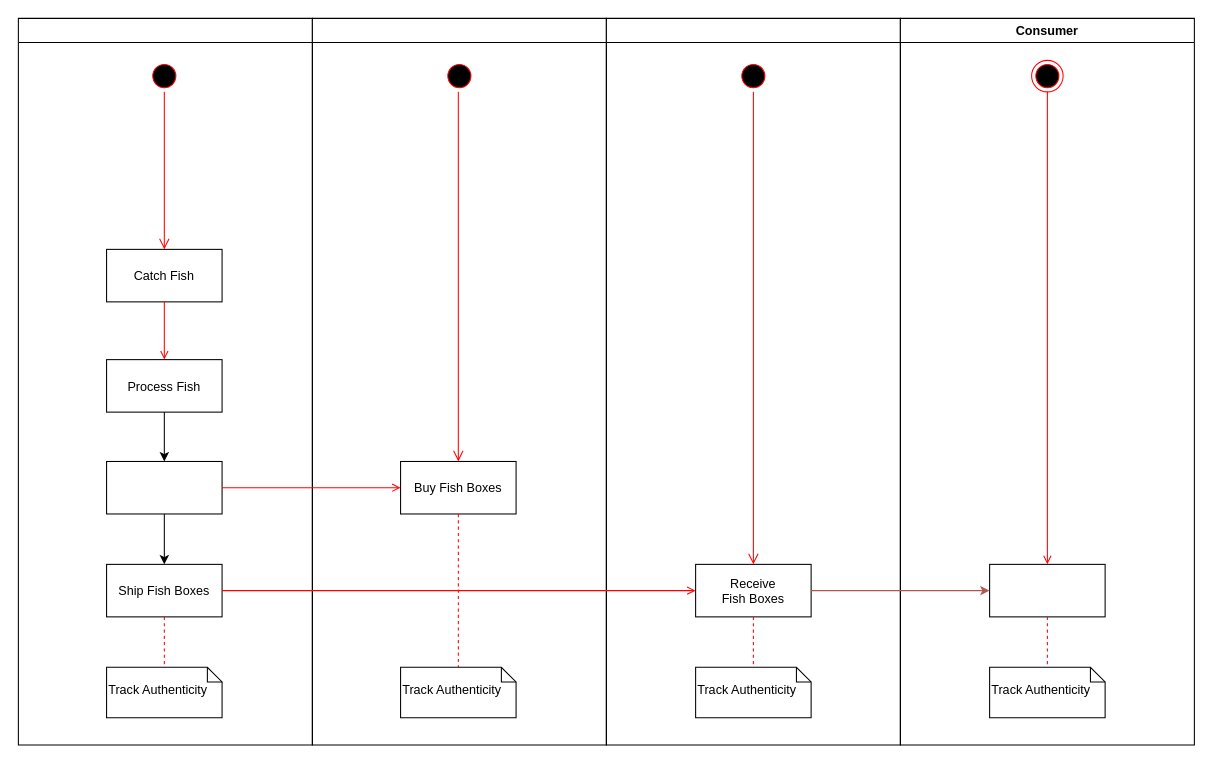
The diagram is 1213 pixels wide and 763 high, and some of its shapes have lost their labels. The box of each missing label's shape, as (x1, y1, x2, y2) in pixels:
Add Fish Boxes: (106, 460, 222, 514)
Buy Fish: (989, 563, 1105, 617)
Distributor: (311, 17, 606, 745)
Fisher: (17, 17, 312, 745)
Retailer: (605, 17, 900, 745)
